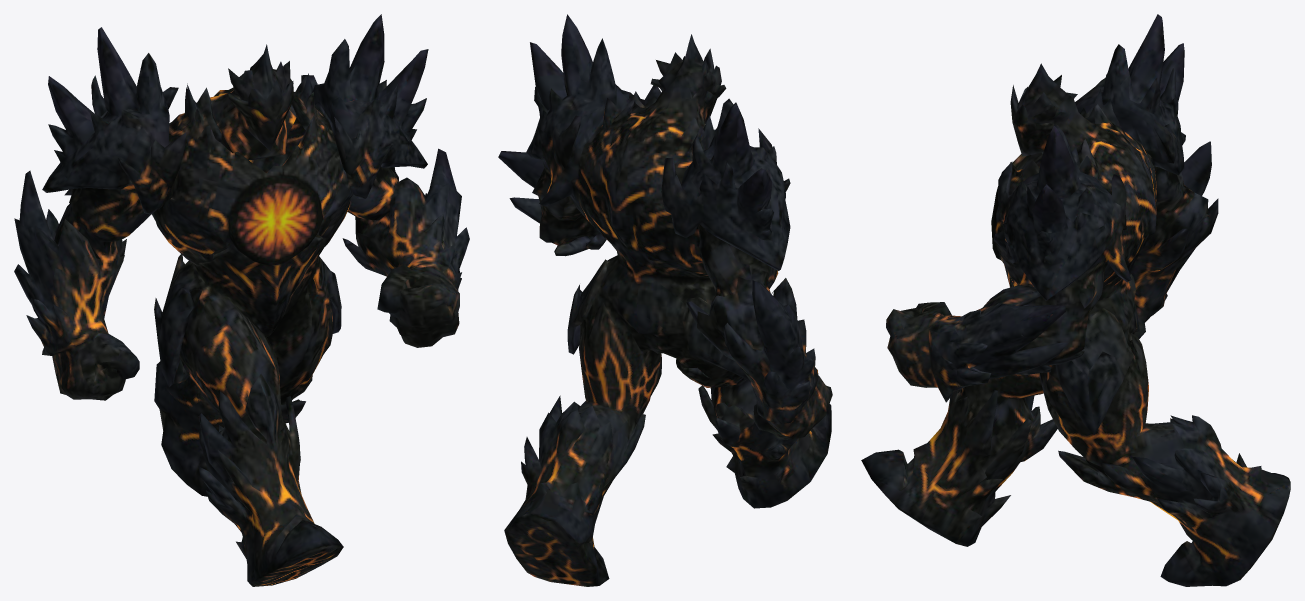
The model's file is iron_colossus_march.glb.
3 renders of one model, left to right at view 1: azimuth 30°, elevation 25°; view 2: azimuth 150°, elevation 25°; view 3: azimuth 270°, elevation 25°, orthographic. The views are drawn at different scales.
Parts seen in each view (by area): view 1: world; view 2: world; view 3: world.
Boxes of the visible parts, x1,y1,x2,y2 form: world: [14, 14, 469, 586]; world: [498, 14, 832, 586]; world: [861, 14, 1290, 586].
Size of the model in its own units: 0.7613 by 1 by 0.7821.
Materials: 1 (1 with a texture image).
